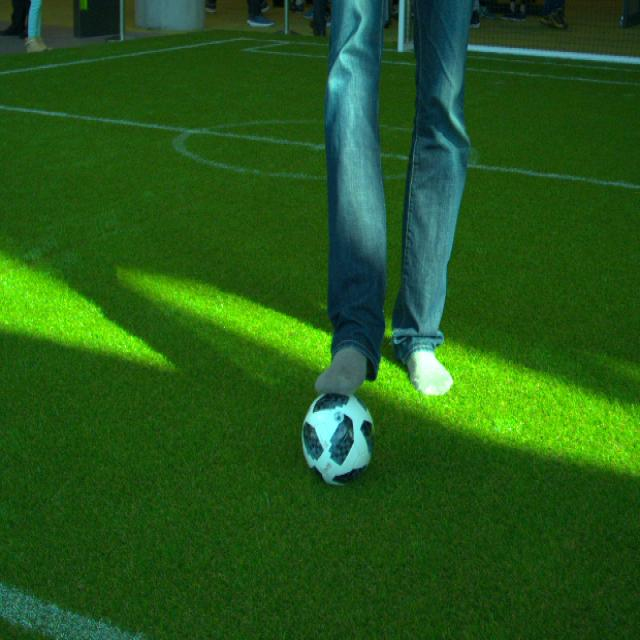ball: (301, 393, 376, 484)
goalpost: (396, 1, 404, 51)
